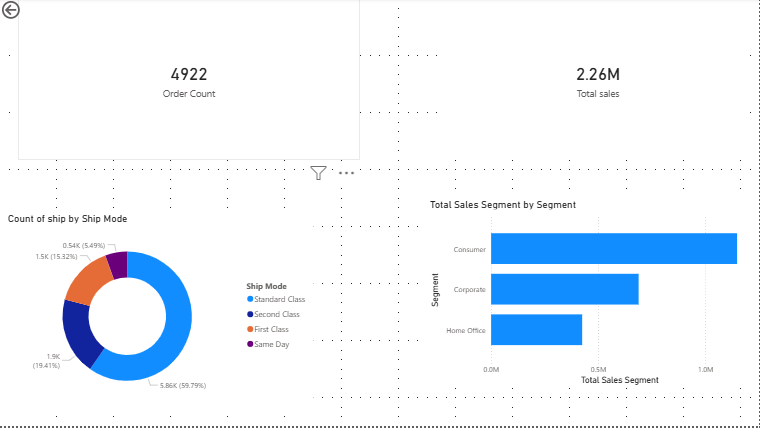

The dashboard page shown, as its layout file describes it:
{"tool":"powerbi","page":{"name":"Page 1","canvas":[1280,720],"ordinal":0},"visuals":[{"type":"card","fields":{"Values":["SUPERSTORE.Order Count"]},"box":[32,0,576,272],"z":0},{"type":"card","fields":{"Values":["SUPERSTORE.Total sales"]},"box":[752,0,512,272],"z":1000},{"type":"actionButton","box":[0,0,100,40],"z":3000},{"type":"barChart","fields":{"Y":["SUPERSTORE.Total Sales  Segment"],"Category":["SUPERSTORE.Segment"]},"box":[720,336,560,320],"z":4000},{"type":"donutChart","fields":{"Category":["SUPERSTORE.Ship Mode"],"Y":["CountNonNull(SUPERSTORE.ship)"]},"box":[10,360.3,519.6,332],"z":6000}]}

Visuals, with their boxes in screenshot pixels (x1, y1, x2, y2), scaled from the page's 1280x720 canvas onto the 760x438 screenshot:
card - SUPERSTORE.Order Count: bbox(19, 0, 361, 165)
card - SUPERSTORE.Total sales: bbox(446, 0, 750, 165)
actionButton: bbox(0, 0, 59, 24)
barChart - SUPERSTORE.Total Sales  Segment x SUPERSTORE.Segment: bbox(428, 204, 759, 399)
donutChart - SUPERSTORE.Ship Mode x CountNonNull(SUPERSTORE.ship): bbox(6, 219, 314, 421)
